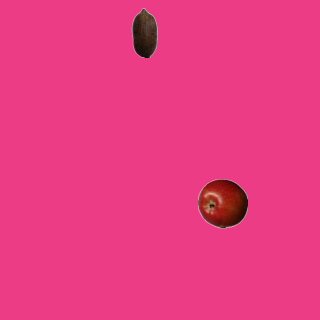Apple Braeburn: (197, 178, 247, 228)
Nut Pecan: (119, 7, 169, 57)
